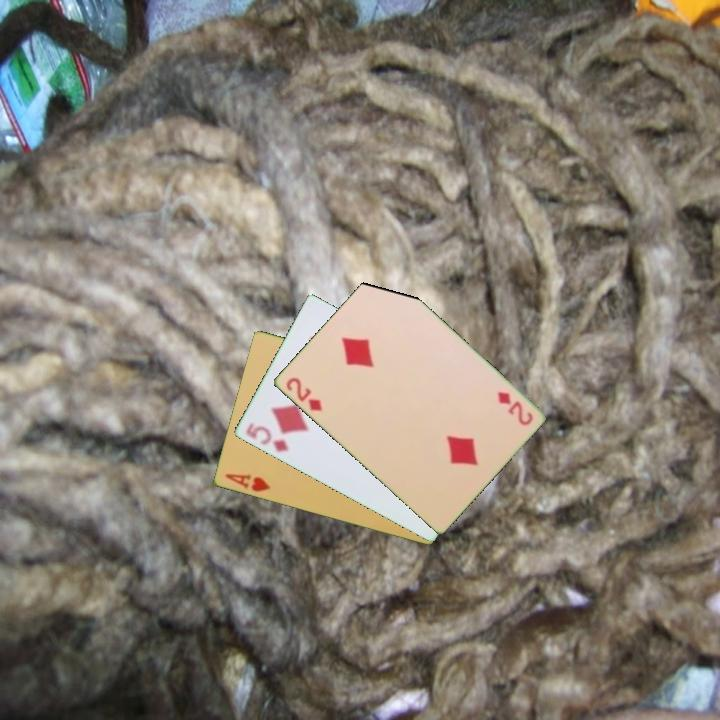2d: (282, 374, 325, 414), (493, 388, 535, 428)
5d: (242, 419, 291, 455)
Ah: (222, 470, 273, 495)
